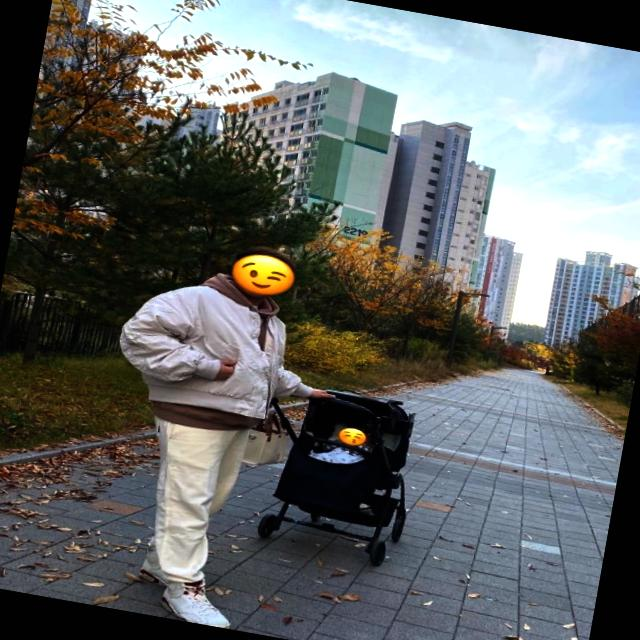cottonpants: (124, 407, 248, 594)
padding: (112, 271, 331, 436)
